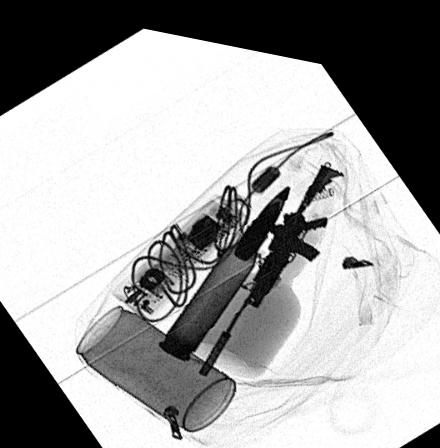Bullet: (156, 173, 288, 354)
Gun: (194, 148, 342, 368)
